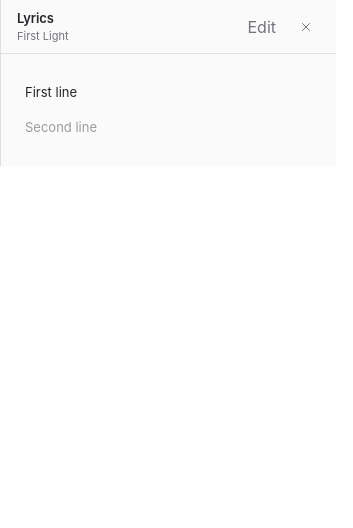
it: LyricsPane › saves a manual lyric edit without changing the public panel contract
Click the button "Edit" at {"x": 262, "y": 26}, box 240,12 -> 284,40
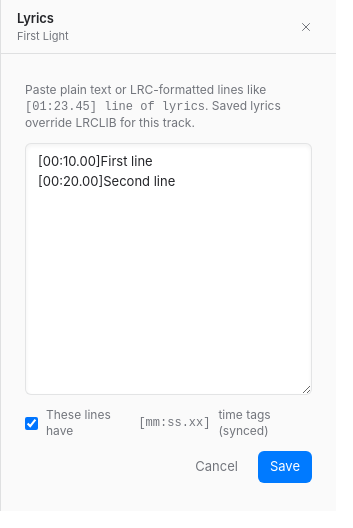
Replace the text in the text box with placeholder "Lyrics here…" with "Replacement lyrics" at {"x": 168, "y": 269}, box 25,143 -> 312,395
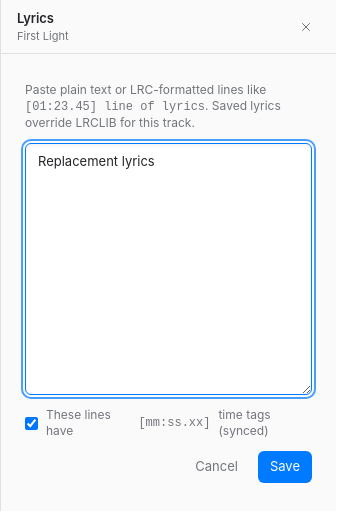
Click the button "Save" at {"x": 285, "y": 467}, box 258,451 -> 312,482
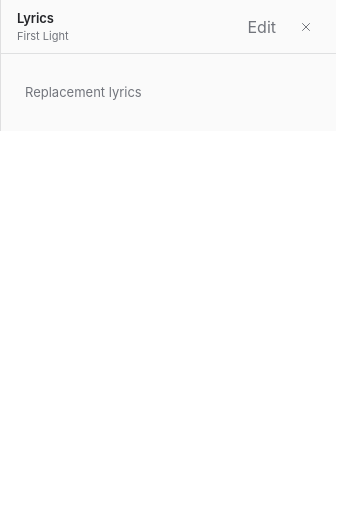
expect the text "Replacement lyrics" is shown: met, box 25,84 -> 142,100
